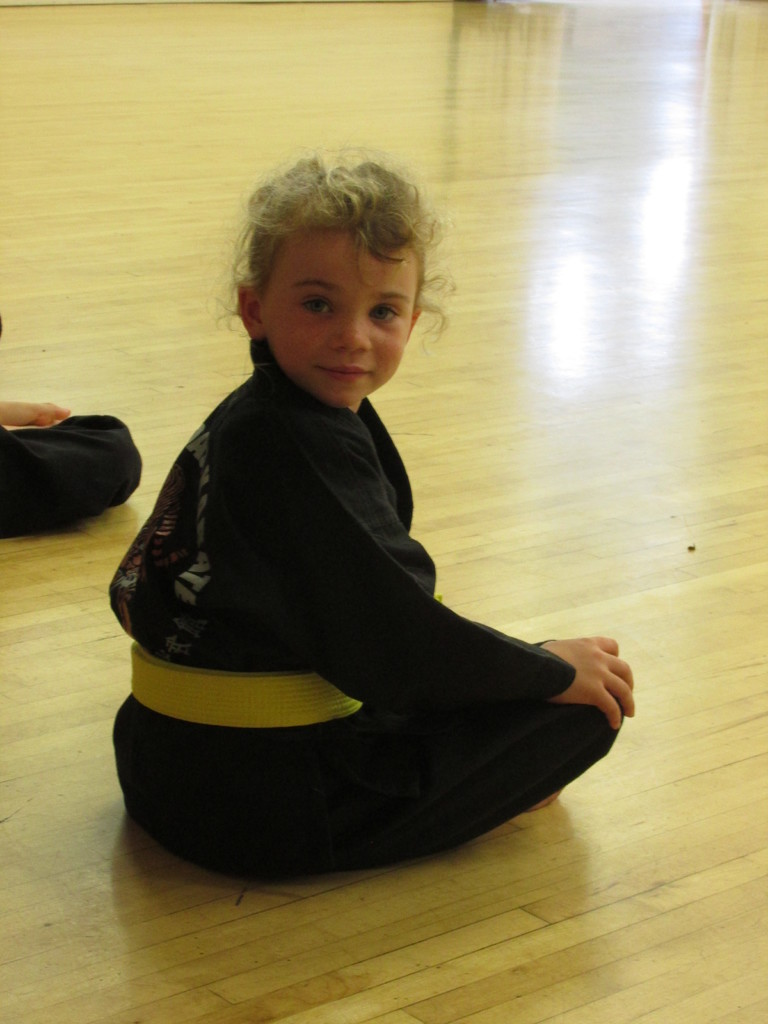Person: (107, 140, 636, 880)
